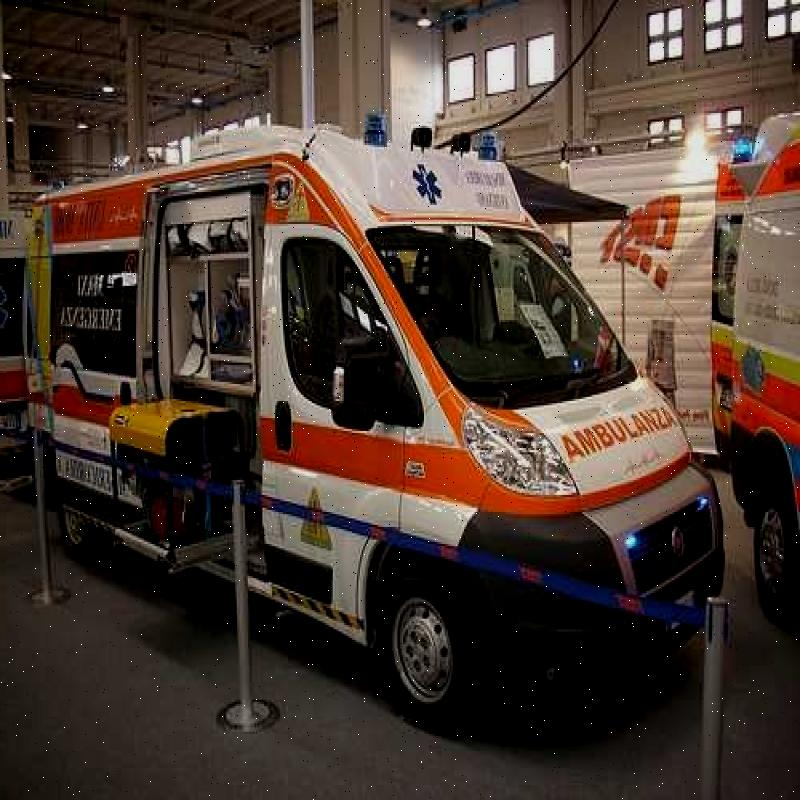AmbulanceSiren: (469, 127, 514, 174), (363, 107, 393, 148)
